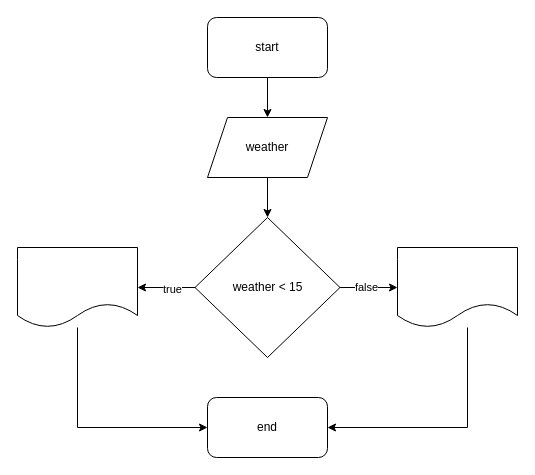
The diagram is 535 pixels wide and 475 high, and some of its shapes have lost their labels. The centre of each missing label's shape, as x and y in pixels:
"Divisible" goes at point (77, 287).
"Not divisible" goes at point (457, 287).
